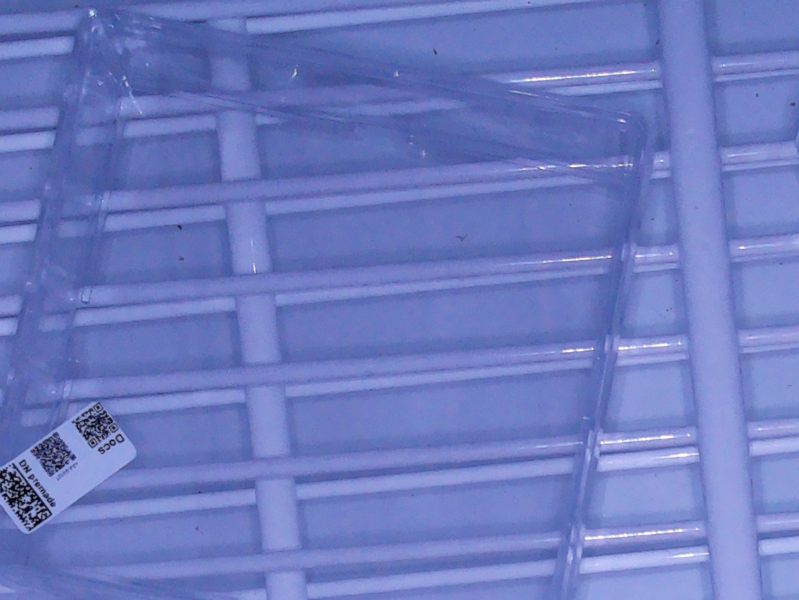plate: (1, 5, 656, 600)
